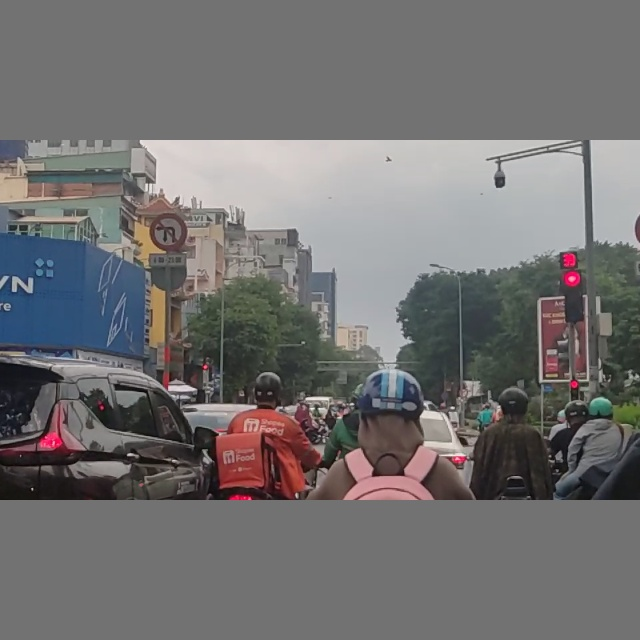P.124c: (149, 212, 187, 251)
